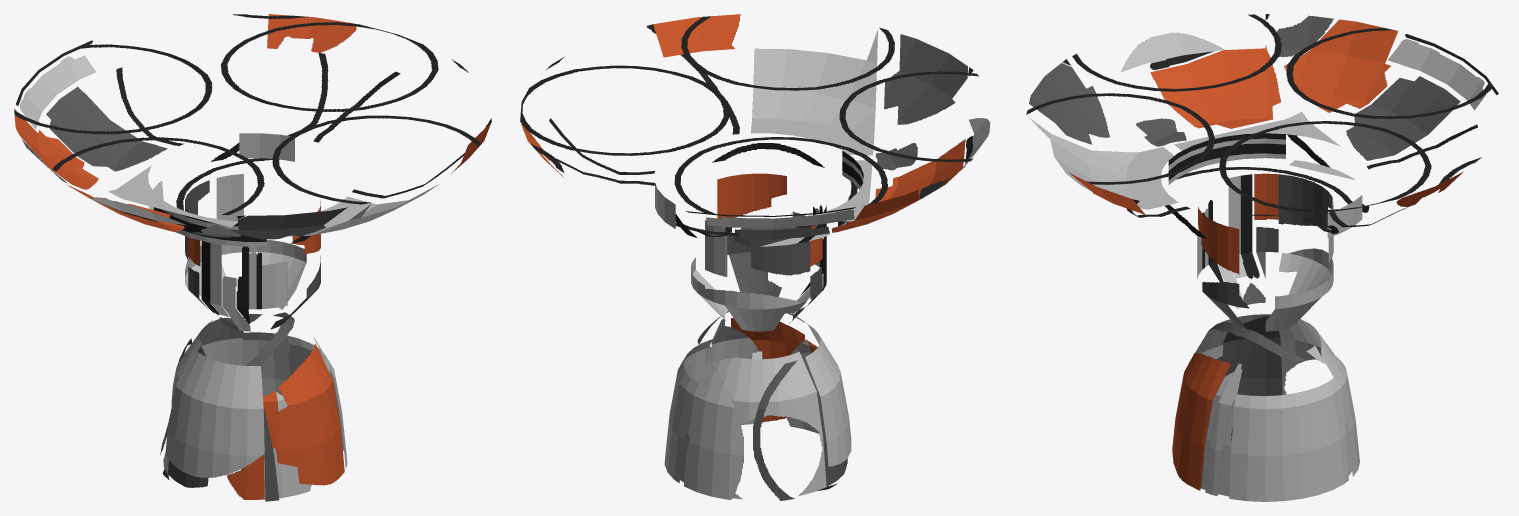
The model's file is 125liquidsmall.fbx.
The picture shows the model from 3 angles, left to right: view 1: azimuth 30°, elevation 25°; view 2: azimuth 150°, elevation 25°; view 3: azimuth 270°, elevation 25°; orthographic projection.
Visible parts, largest first — view 1: Cylinder; view 2: Cylinder; view 3: Cylinder.
Part boxes in pixels (x1=…): Cylinder: x1=14, y1=14, x2=491, y2=501; Cylinder: x1=520, y1=14, x2=990, y2=500; Cylinder: x1=1026, y1=14, x2=1498, y2=501.
Bounding box in the file's own units: 125 × 100 × 125.
